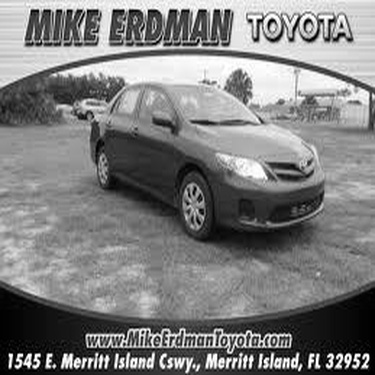car: (92, 76, 340, 240), (64, 89, 115, 118)
